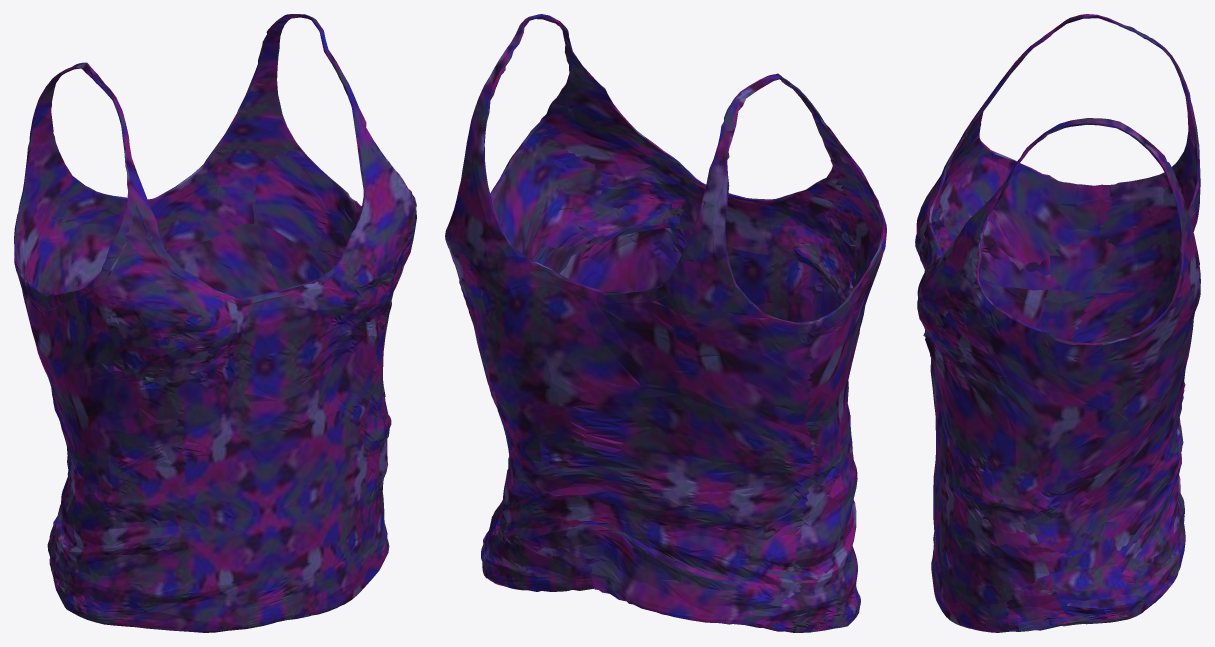
File: mhw_elvs_ladies_tank1.glb
3 views of the same model, side by side, from view 1: azimuth 30°, elevation 25°; view 2: azimuth 150°, elevation 25°; view 3: azimuth 270°, elevation 25° (orthographic). The views are drawn at different scales.
Parts seen in each view (by area): view 1: mhw_elvs_ladies_tank1; view 2: mhw_elvs_ladies_tank1; view 3: mhw_elvs_ladies_tank1.
Boxes of the visible parts, <box> form: mhw_elvs_ladies_tank1: <box>14,14,416,632</box>; mhw_elvs_ladies_tank1: <box>445,14,886,632</box>; mhw_elvs_ladies_tank1: <box>915,14,1200,632</box>.
Size of the model in its own units: 0.3666 by 0.5432 by 0.2718.
1 material, 1 textured.
